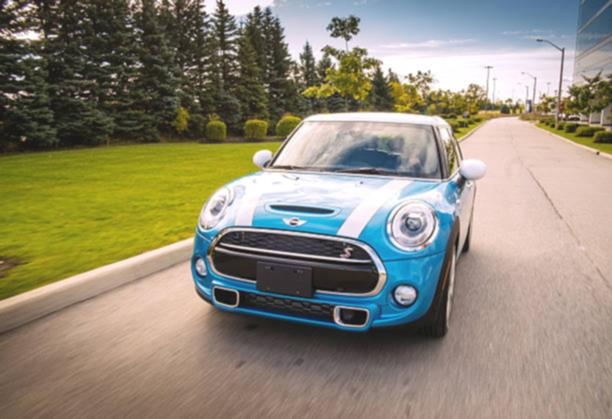mini: (278, 209, 310, 234)
